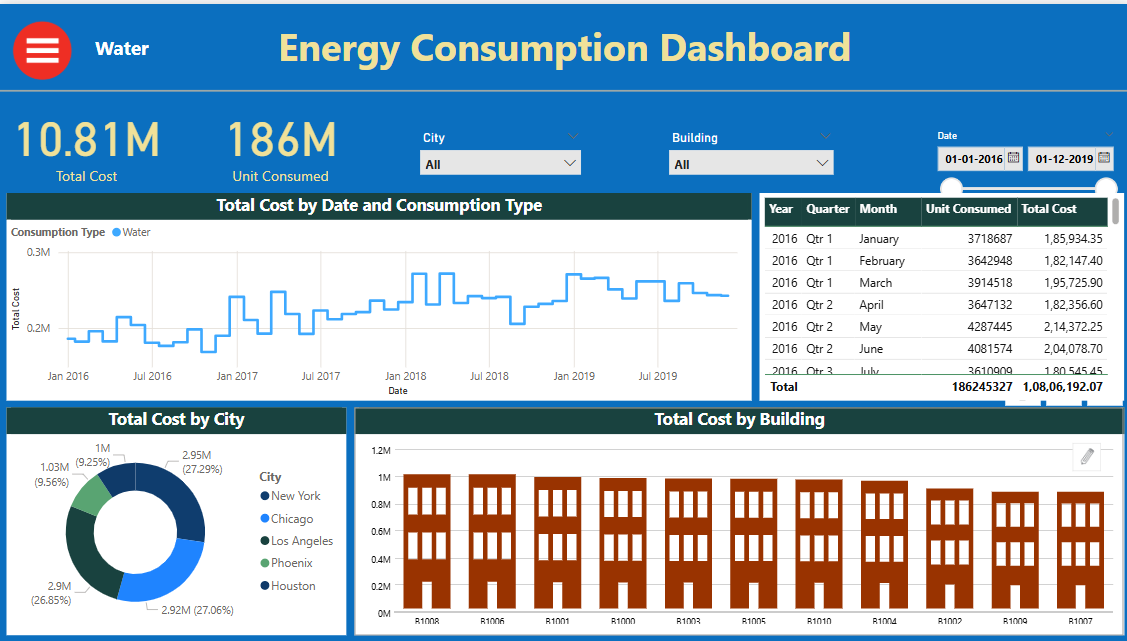

This screenshot's page, from the dashboard's own definition file:
{"tool":"powerbi","page":{"name":"Water","canvas":[1280,720],"ordinal":1},"visuals":[{"type":"shape","box":[0,83.6,1280,30.2],"z":0},{"type":"image","box":[8.3,14.2,81.6,76.8],"z":1000},{"type":"textbox","box":[290.3,14.4,698.4,69],"z":2000},{"type":"textbox","box":[82.5,28.8,111.2,39.3],"z":3000},{"type":"card","fields":{"Values":["Energy Consumptions.Total Cost"]},"box":[2.9,98.8,190.8,115.1],"z":4000},{"type":"card","fields":{"Values":["Energy Consumptions.Unit Consumed"]},"box":[212.9,98.8,209,115.1],"z":5000},{"type":"slicer","fields":{"Values":["Energy Consumptions.Building"]},"box":[747.9,137.1,205.2,63.3],"z":6000},{"type":"slicer","fields":{"Values":["Building Master.City"]},"box":[466.9,137.1,201.3,63.3],"z":7000},{"type":"slicer","fields":{"Values":["Energy Consumptions.Date"]},"box":[1047,137.1,224.4,93],"z":8000},{"type":"lineChart","fields":{"Category":["Energy Consumptions.Date"],"Y":["Energy Consumptions.Total Cost"],"Series":["Energy Consumptions.Consumption Type"]},"box":[8.8,213.4,842,234.4],"z":9000},{"type":"donutChart","fields":{"Y":["Energy Consumptions.Total Cost"],"Category":["Building Master.City"]},"box":[8.8,455.7,383.7,257.3],"z":10000},{"type":"PBI_CV_73744D90_4DC9_4F18_8BA5_EE8FA5C98035","fields":{"Values":["Energy Consumptions.Total Cost"],"Category":["Energy Consumptions.Building"]},"box":[401.3,455.7,870.1,257.3],"z":11000},{"type":"tableEx","fields":{"Values":["Energy Consumptions.Date.Variation.Date Hierarchy.Year","Energy Consumptions.Date.Variation.Date Hierarchy.Quarter","Energy Consumptions.Date.Variation.Date Hierarchy.Month","Energy Consumptions.Unit Consumed","Energy Consumptions.Total Cost"]},"box":[859.6,213.4,411.8,234.4],"z":12000},{"type":"actionButton","box":[3.1,9.4,91.5,74.9],"z":15000}]}

Visuals, with their boxes in screenshot pixels (x1, y1, x2, y2), scaled from the page's 1280x720 canvas onto the 1127x641 screenshot:
shape: BBox(0, 74, 1126, 101)
image: BBox(7, 13, 79, 81)
textbox: BBox(256, 13, 871, 74)
textbox: BBox(73, 26, 171, 61)
card - Energy Consumptions.Total Cost: BBox(3, 88, 171, 190)
card - Energy Consumptions.Unit Consumed: BBox(187, 88, 371, 190)
slicer - Energy Consumptions.Building: BBox(659, 122, 839, 178)
slicer - Building Master.City: BBox(411, 122, 588, 178)
slicer - Energy Consumptions.Date: BBox(922, 122, 1119, 205)
lineChart - Energy Consumptions.Date x Energy Consumptions.Total Cost: BBox(8, 190, 749, 399)
donutChart - Energy Consumptions.Total Cost x Building Master.City: BBox(8, 406, 346, 635)
PBI_CV_73744D90_4DC9_4F18_8BA5_EE8FA5C98035 - Energy Consumptions.Total Cost x Energy Consumptions.Building: BBox(353, 406, 1119, 635)
tableEx - Energy Consumptions.Date.Variation.Date Hierarchy.Year x Energy Consumptions.Date.Variation.Date Hierarchy.Quarter: BBox(757, 190, 1119, 399)
actionButton: BBox(3, 8, 83, 75)
